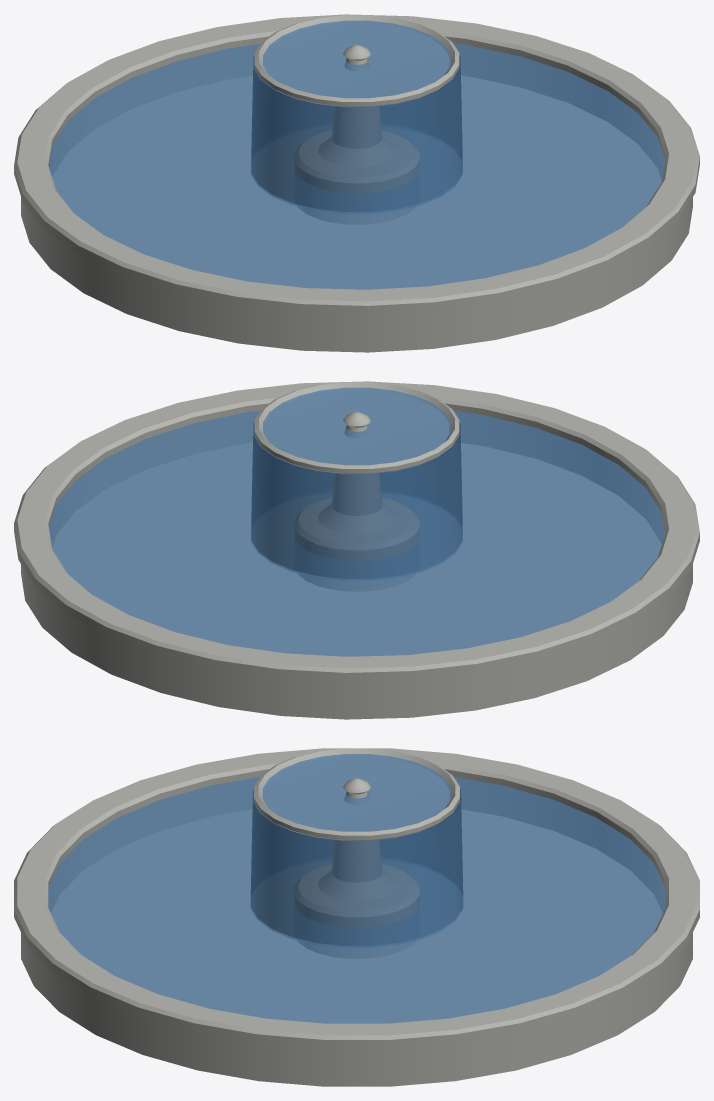
Rendered from fuente.glb.
3 renders of one model, top to bottom at view 1: azimuth 30°, elevation 25°; view 2: azimuth 150°, elevation 25°; view 3: azimuth 270°, elevation 25°, orthographic.
Visible parts, largest first — view 1: fuente_piedra, pieza_agua; view 2: fuente_piedra, pieza_agua; view 3: fuente_piedra, pieza_agua.
Part boxes in pixels (<box>): fuente_piedra: <box>14,14,699,352</box>; pieza_agua: <box>49,20,664,289</box>; fuente_piedra: <box>14,381,699,719</box>; pieza_agua: <box>49,387,664,656</box>; fuente_piedra: <box>14,748,699,1086</box>; pieza_agua: <box>48,754,665,1023</box>.
Size of what is drawn, in the model's own units: 6 by 1.6 by 6.
